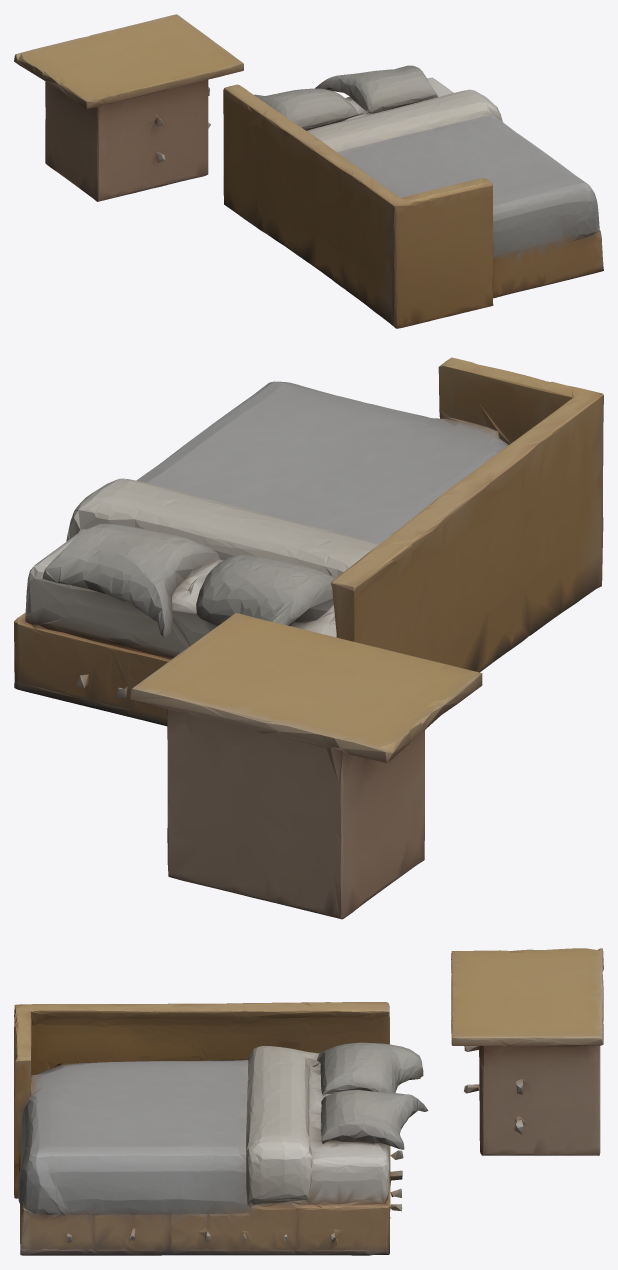
File: yygzzy_uyeqtw.glb
3 renders of one model, top to bottom at view 1: azimuth 30°, elevation 25°; view 2: azimuth 150°, elevation 25°; view 3: azimuth 270°, elevation 25°, orthographic. The views are drawn at different scales.
Parts seen in each view (by area): view 1: geometry_0; view 2: geometry_0; view 3: geometry_0.
Boxes of the visible parts, x1=… form: geometry_0: x1=14, y1=14, x2=603, y2=328; geometry_0: x1=14, y1=357, x2=603, y2=919; geometry_0: x1=14, y1=948, x2=603, y2=1255.
Bounding box in the file's own units: 0.7622 × 0.2647 × 1.
